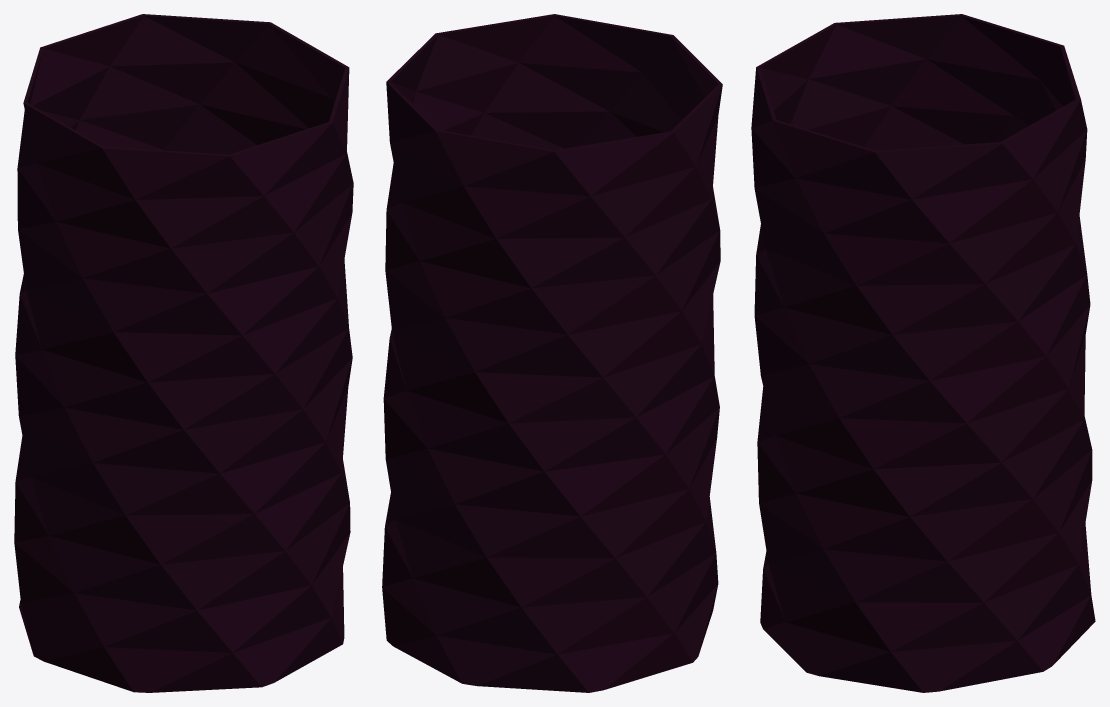
Rendered from PencilHolder.obj.
3 renders of one model, left to right at view 1: azimuth 30°, elevation 25°; view 2: azimuth 150°, elevation 25°; view 3: azimuth 270°, elevation 25°, orthographic.
Visible parts, largest first — view 1: polySurface1 Pencil_holder_1; view 2: polySurface1 Pencil_holder_1; view 3: polySurface1 Pencil_holder_1.
Part boxes in pixels (<box>): polySurface1 Pencil_holder_1: <box>14,14,353,692</box>; polySurface1 Pencil_holder_1: <box>382,14,722,692</box>; polySurface1 Pencil_holder_1: <box>751,14,1095,692</box>.
Size of the model in its own units: 2.94 by 5.26 by 3.02.
